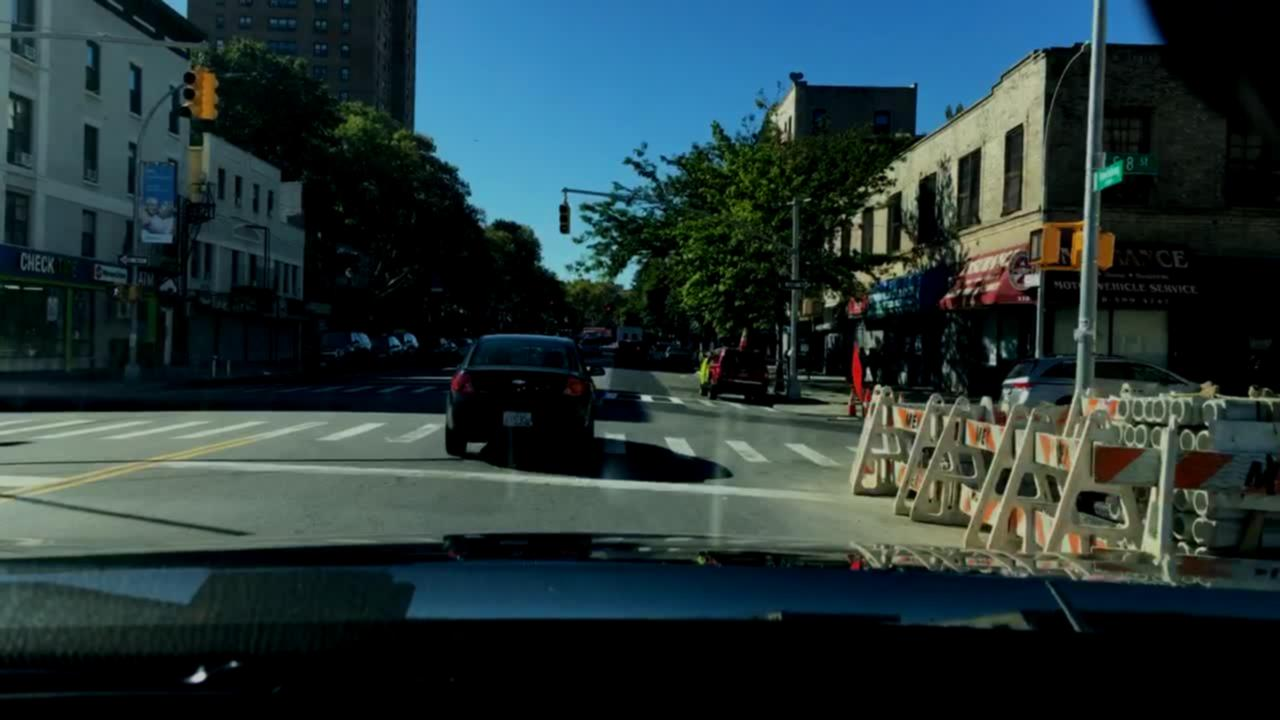chevrolet: (501, 373, 533, 392)
